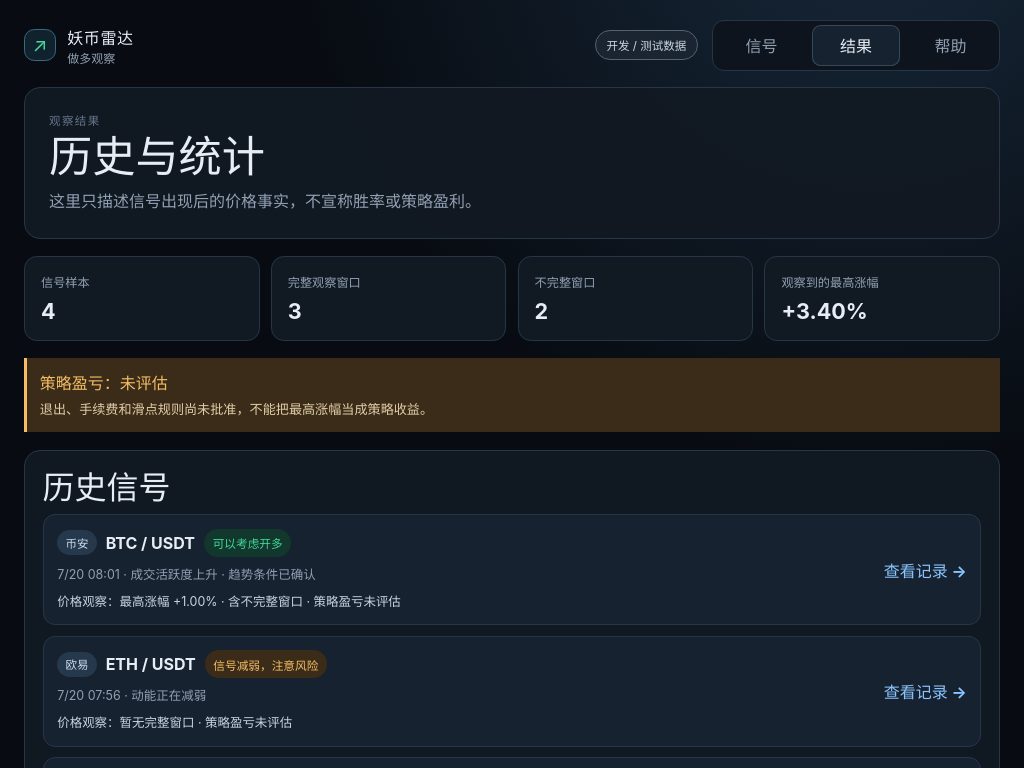
detail, history, and observation statistics › provides keyboard buttons for all primary views and responsive structures
expect the element with class "stats-grid" is shown: met, box [24,256,1000,341]
Step 1. Click the button "帮助" → {"x": 951, "y": 45}, box [906,25,995,66]
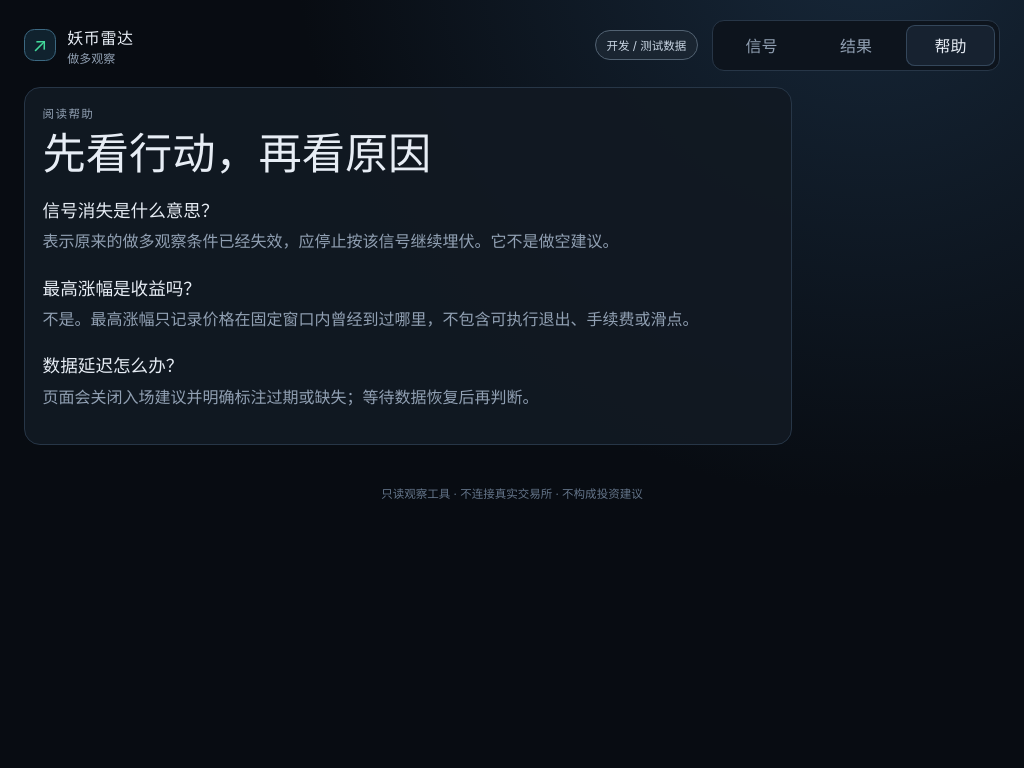
expect the text "信号消失是什么意思？" is shown: met, box [43,200,219,221]
expect the text "它不是做空建议" is shown: met, box [43,231,619,251]
